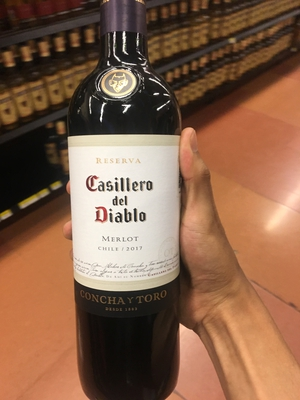casillero del diablo merlot: (58, 8, 191, 394)
